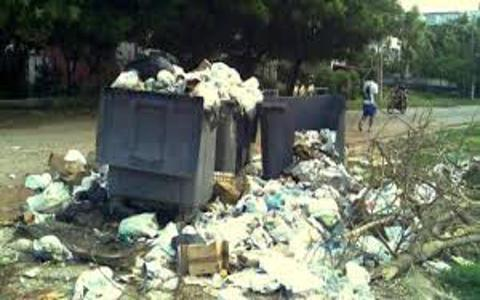overflowing garbage: (86, 60, 262, 293)
